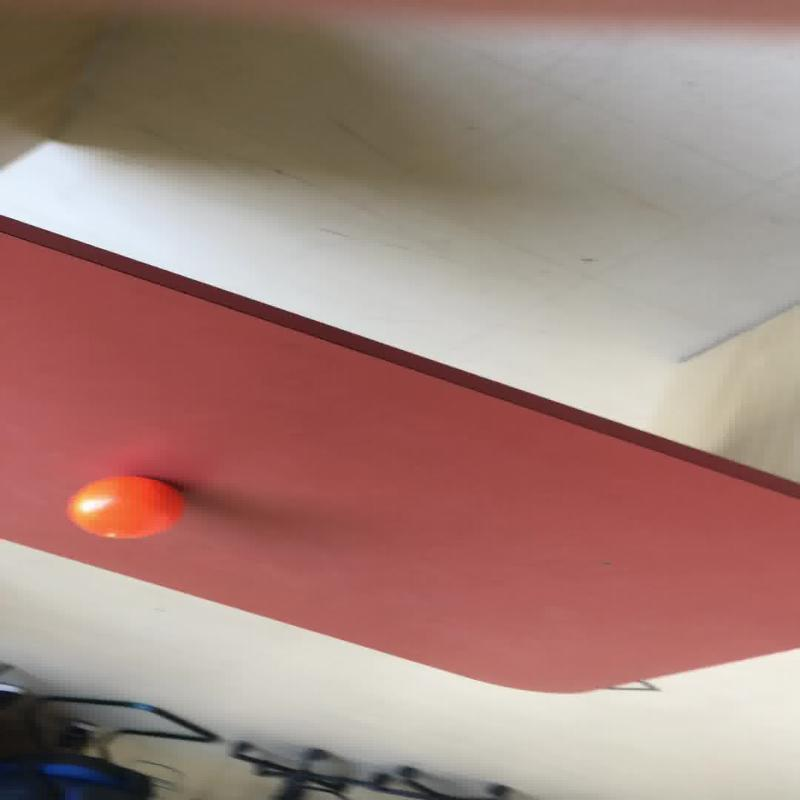orange: (65, 474, 185, 539)
